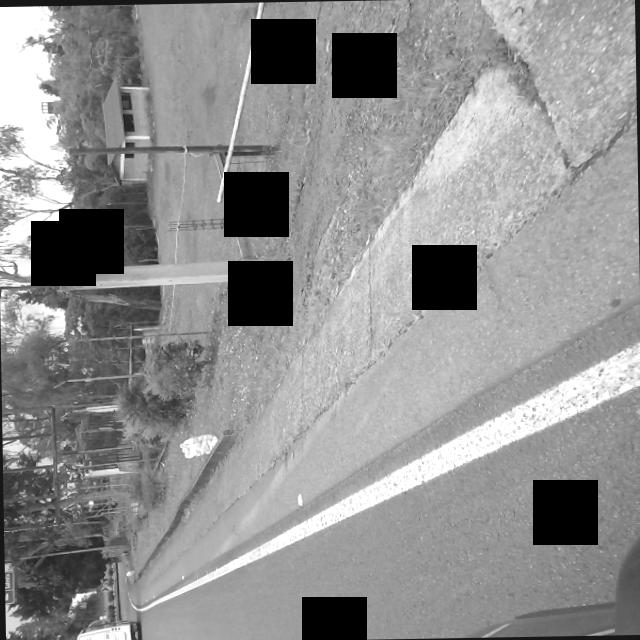DITCH: (93, 0, 640, 640), (122, 0, 640, 640), (113, 0, 640, 610)
